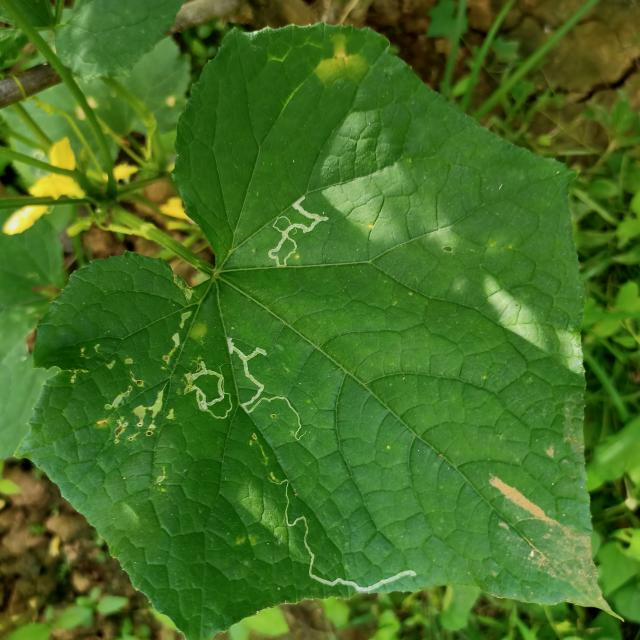disease_cucumber: (314, 31, 366, 84)
